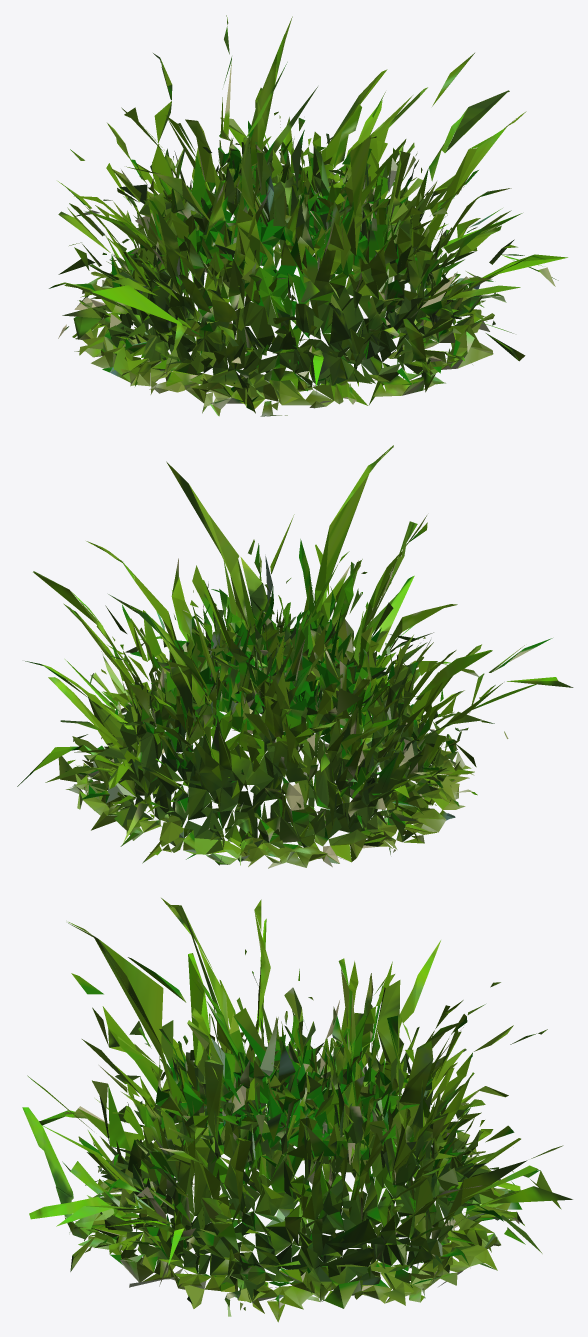
File: grass1.glb
3 renders of one model, top to bottom at view 1: azimuth 30°, elevation 25°; view 2: azimuth 150°, elevation 25°; view 3: azimuth 270°, elevation 25°, orthographic. The views are drawn at different scales.
Visible parts, largest first — view 1: geometry_0; view 2: geometry_0; view 3: geometry_0.
Part boxes in pixels (x1,y1,x2,y2): geometry_0: (49,15,567,416); geometry_0: (17,445,573,868); geometry_0: (22,898,572,1322).
Bounding box in the file's own units: 1.87 × 1.04 × 1.71.
1 material, 1 textured.
